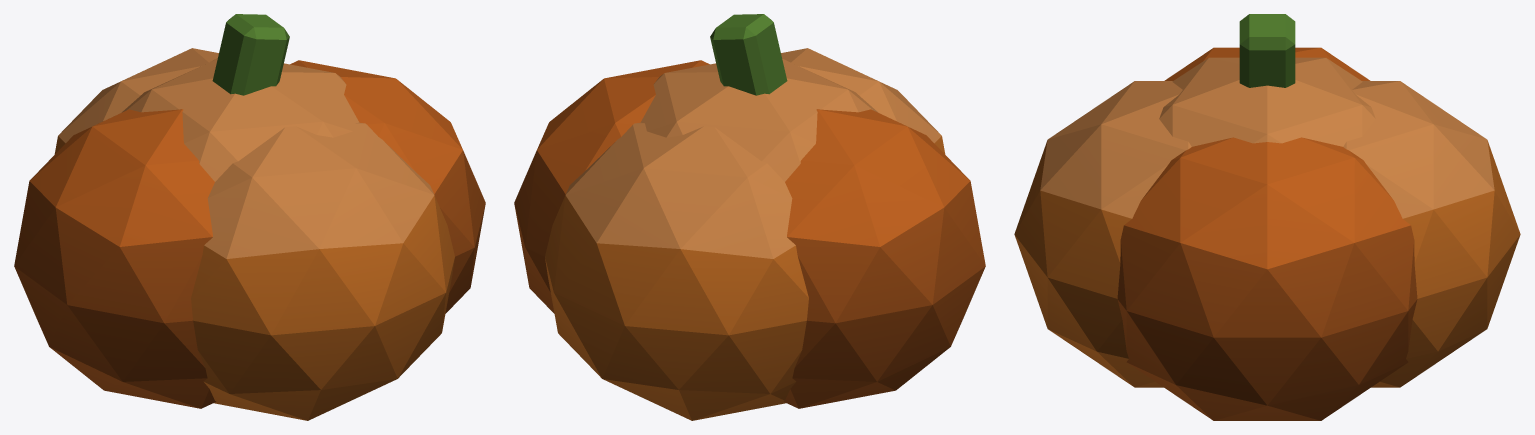
The model's file is pumpkin.glb.
3 renders of one model, left to right at view 1: azimuth 30°, elevation 25°; view 2: azimuth 150°, elevation 25°; view 3: azimuth 270°, elevation 25°, orthographic.
Visible parts, largest first — view 1: mesh_pumpkin; view 2: mesh_pumpkin; view 3: mesh_pumpkin.
Boxes of the visible parts, x1,y1,x2,y2 form: mesh_pumpkin: (14, 14, 485, 420); mesh_pumpkin: (514, 14, 985, 420); mesh_pumpkin: (1014, 14, 1520, 420).
Size of the model in its own units: 0.6185 by 0.5038 by 0.64.
